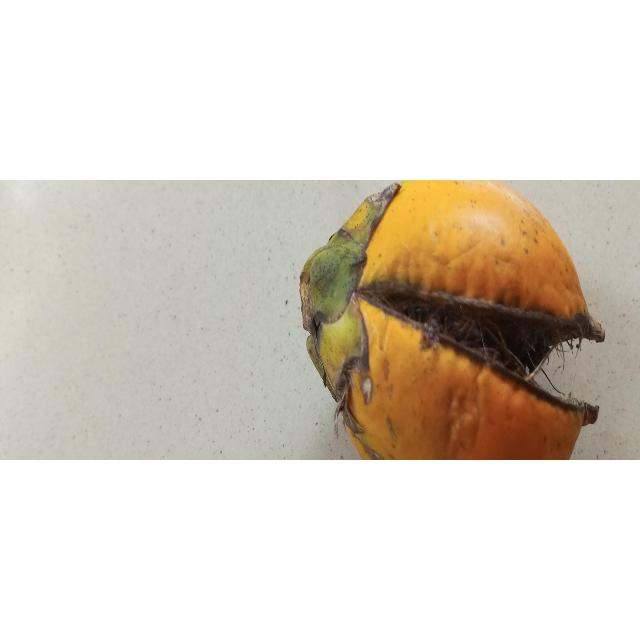damaged: (299, 180, 605, 461)
